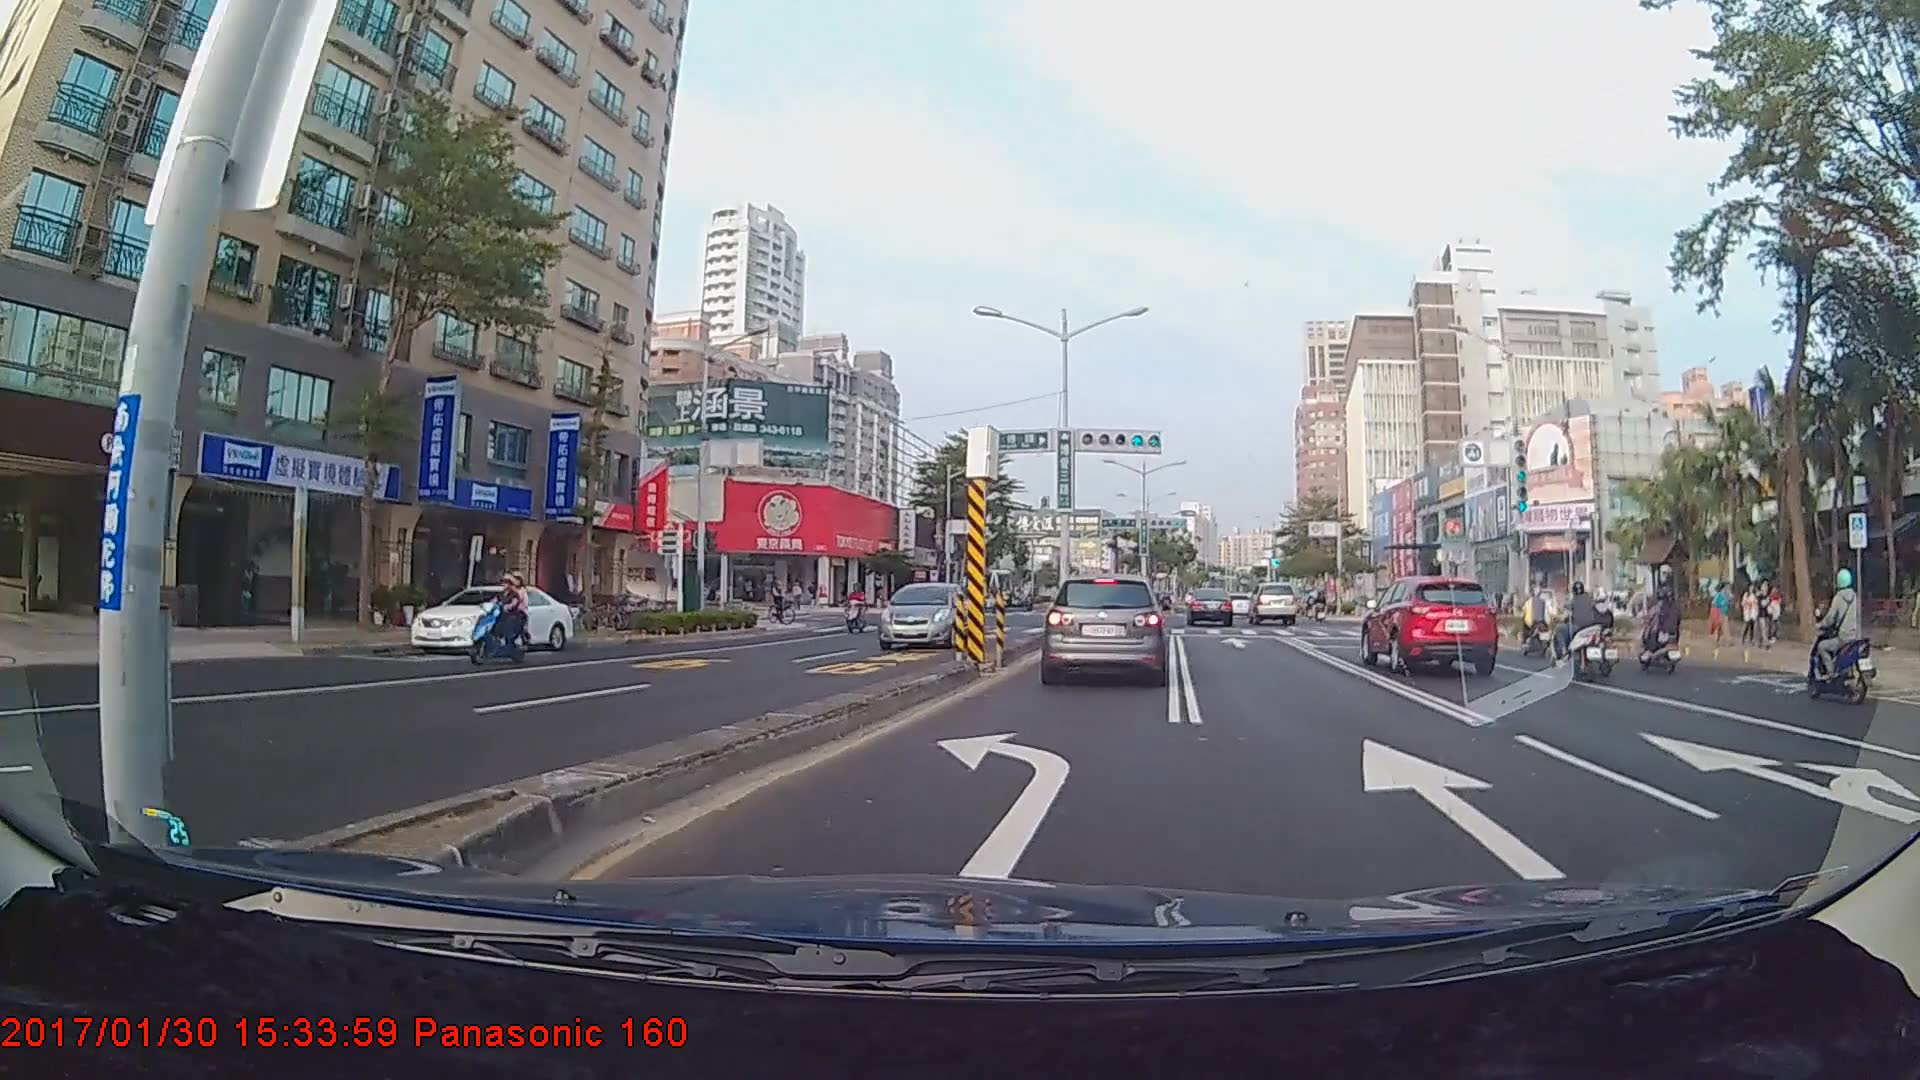pedestrian: (1709, 580, 1734, 649), (1758, 580, 1778, 646), (1742, 582, 1762, 644)
rider: (1805, 568, 1882, 705), (463, 570, 539, 670), (1547, 575, 1614, 677), (1633, 584, 1684, 673), (840, 575, 868, 637), (766, 576, 796, 629)
vehicle: (1361, 569, 1502, 677), (1039, 572, 1166, 687), (408, 583, 573, 655), (877, 580, 974, 647), (1248, 582, 1298, 626), (1184, 586, 1234, 627)
